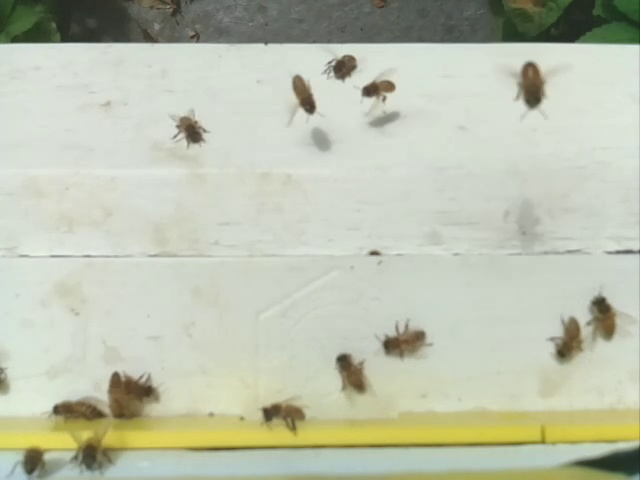bee: (492, 52, 581, 118), (368, 310, 446, 364), (328, 343, 379, 411), (585, 286, 632, 358), (544, 308, 589, 368), (355, 69, 404, 117), (65, 427, 117, 472), (161, 107, 218, 148), (284, 73, 328, 124), (254, 395, 314, 432), (42, 395, 110, 427), (9, 437, 56, 480), (124, 365, 164, 407), (321, 48, 363, 87), (107, 366, 128, 418)
